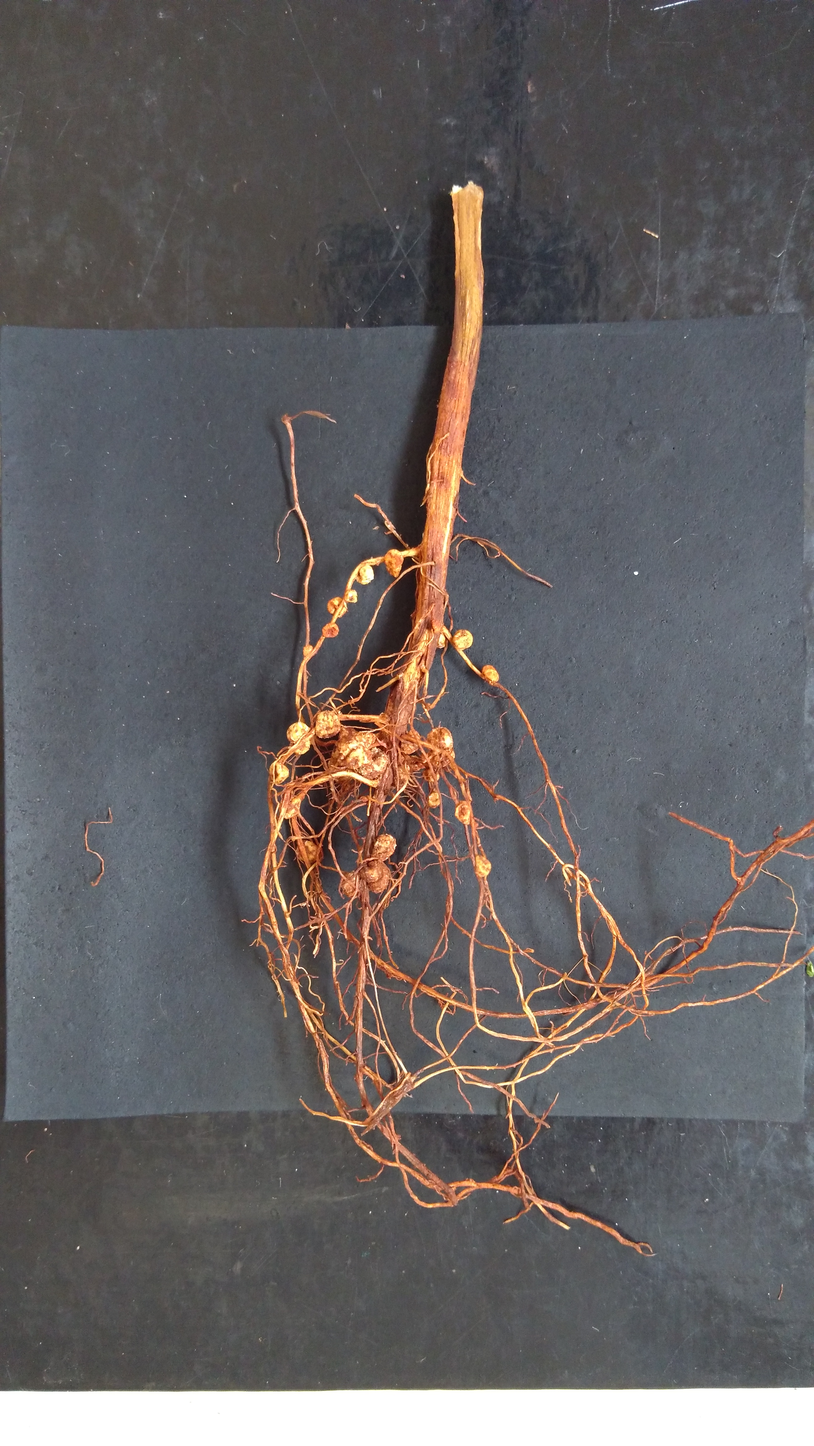nodule: (327, 726, 390, 782), (330, 726, 377, 771), (356, 746, 389, 782), (366, 863, 391, 897), (371, 832, 398, 863), (315, 708, 341, 739), (426, 725, 455, 751), (293, 839, 322, 865), (382, 548, 406, 579), (338, 871, 363, 899), (267, 760, 291, 786), (399, 728, 422, 755), (450, 627, 474, 652), (277, 796, 302, 820), (360, 859, 385, 883), (472, 853, 493, 881), (325, 595, 349, 619), (285, 721, 311, 743), (453, 798, 472, 827), (354, 564, 377, 587), (430, 750, 457, 769), (481, 663, 501, 683), (321, 622, 341, 640), (293, 739, 312, 755), (426, 791, 442, 810), (343, 588, 359, 604), (421, 768, 440, 781), (437, 633, 448, 650), (301, 644, 315, 657)
